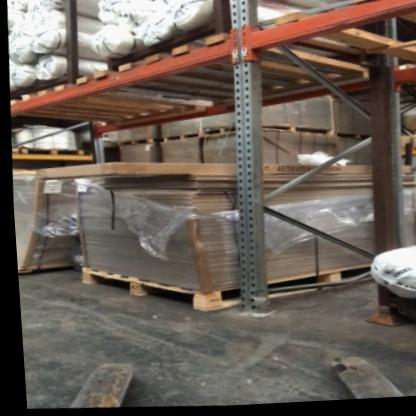vertical_damage: (228, 283, 276, 331)
